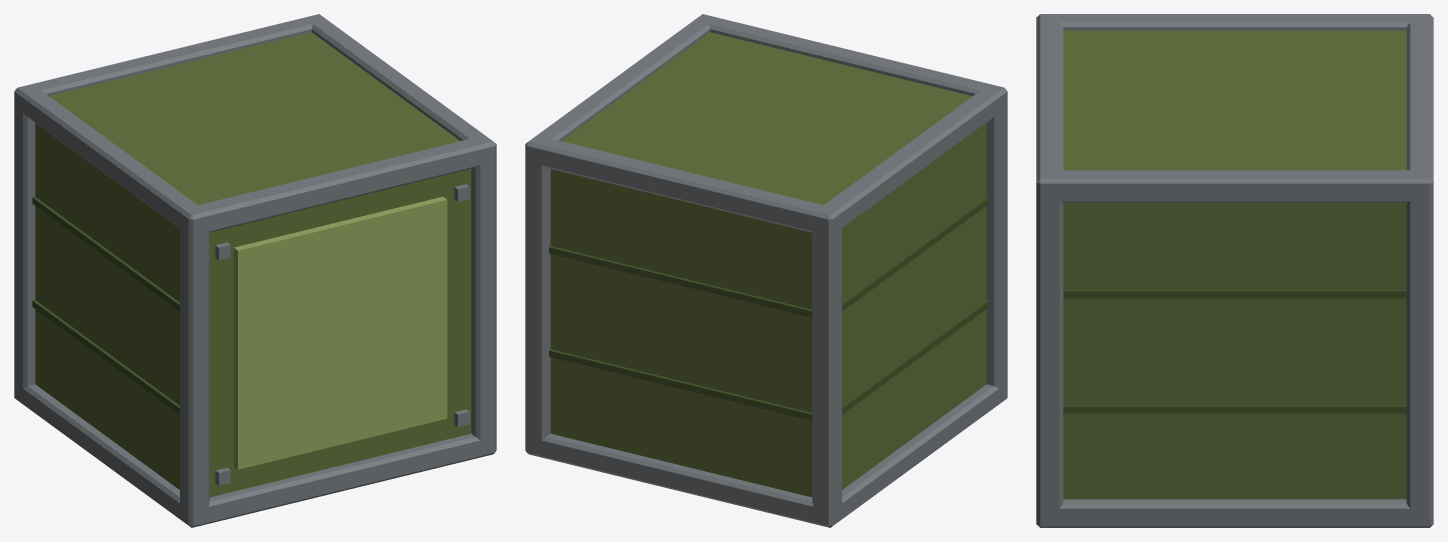
File: crate.glb
The picture shows the model from 3 angles, left to right: view 1: azimuth 30°, elevation 25°; view 2: azimuth 150°, elevation 25°; view 3: azimuth 270°, elevation 25°; orthographic projection. The views are drawn at different scales.
Parts seen in each view (by area): view 1: Crate; view 2: Crate; view 3: Crate.
Boxes of the visible parts, x1,y1,x2,y2 form: Crate: (14,14,496,527); Crate: (525,14,1007,527); Crate: (1036,14,1433,527).
Size of the model in its own units: 1.03 by 1 by 1.03.
